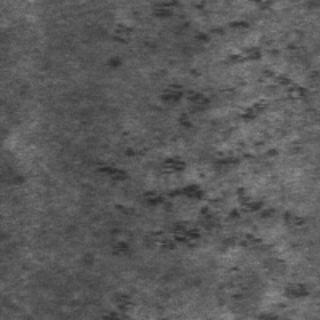rolled pit: (107, 96, 310, 284), (136, 0, 292, 132)
